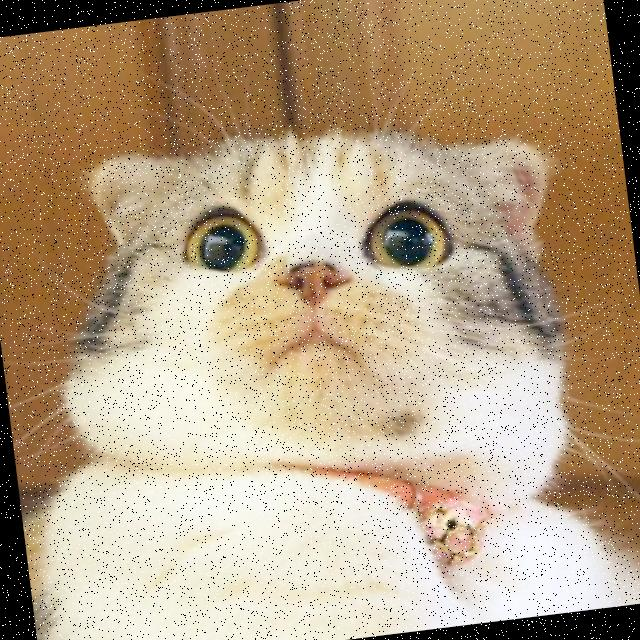Surprised: (172, 142, 496, 440)
